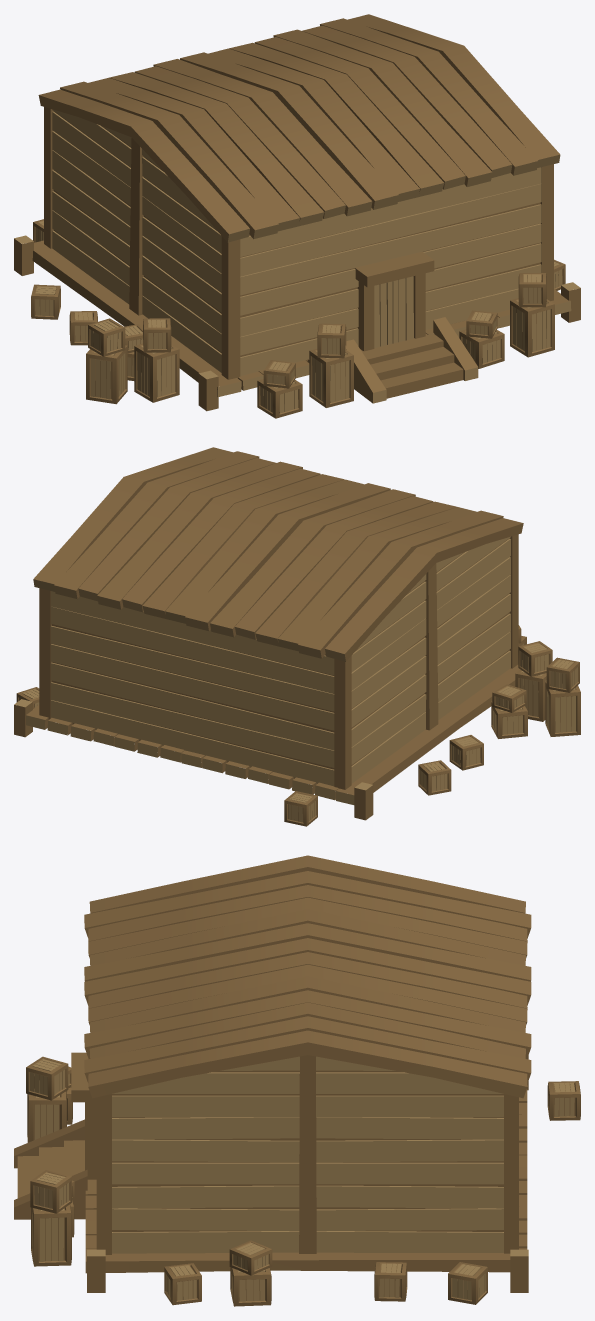
File: storage-shed.glb
The picture shows the model from 3 angles, top to bottom: view 1: azimuth 30°, elevation 25°; view 2: azimuth 150°, elevation 25°; view 3: azimuth 270°, elevation 25°; orthographic projection. The views are drawn at different scales.
Parts seen in each view (by area): view 1: Storage_FirstAge_Leve3; view 2: Storage_FirstAge_Leve3; view 3: Storage_FirstAge_Leve3.
Part boxes in pixels (left/top/right/bottom): Storage_FirstAge_Leve3: left=14, top=14, right=580, bottom=418; Storage_FirstAge_Leve3: left=14, top=447, right=580, bottom=826; Storage_FirstAge_Leve3: left=14, top=855, right=580, bottom=1306.
Bounding box in the file's own units: 1.79 × 0.7613 × 1.62.
